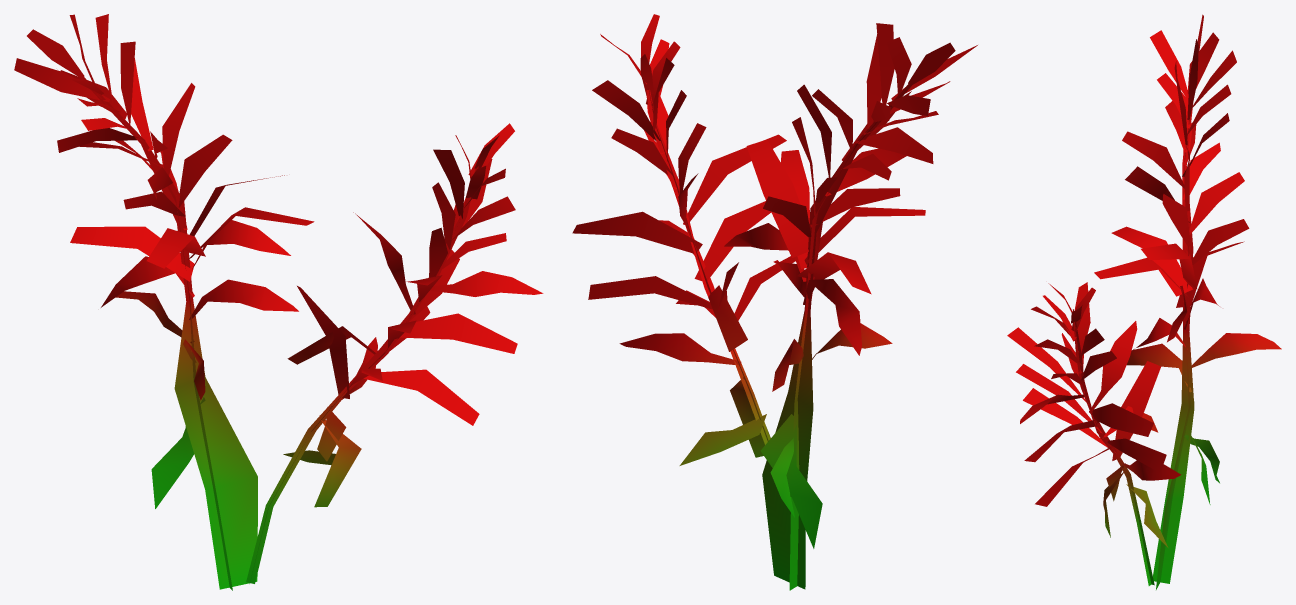
The model's file is Var3_LOD1.fbx.
3 views of the same model, side by side, from view 1: azimuth 30°, elevation 25°; view 2: azimuth 150°, elevation 25°; view 3: azimuth 270°, elevation 25° (orthographic). The views are drawn at different scales.
Visible parts, largest first — view 1: _ab98_Var3_LOD1; view 2: _ab98_Var3_LOD1; view 3: _ab98_Var3_LOD1.
Part boxes in pixels (bbox=[...]): _ab98_Var3_LOD1: bbox=[14, 14, 543, 590]; _ab98_Var3_LOD1: bbox=[572, 14, 977, 590]; _ab98_Var3_LOD1: bbox=[1007, 14, 1281, 589].
Bounding box in the file's own units: 23.22 × 31.22 × 15.63.
